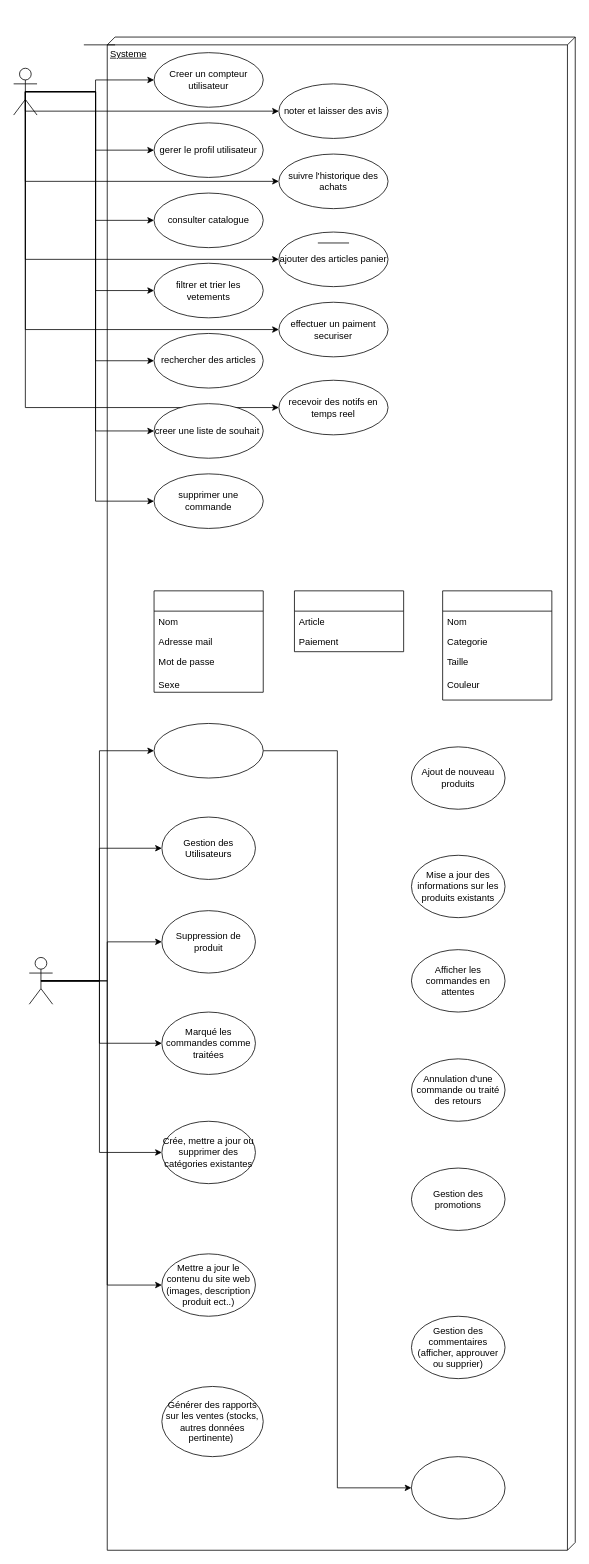
Image size: 589x1564. Some labels were removed from this diagram. The shapes that lost their labels are listed below. From the top down, each one's box as (x1, y1, x2, y2) in pixels, then its label:
(13, 67, 37, 115): Client
(153, 590, 263, 692): Utilisateur
(294, 590, 404, 652): Panier
(442, 590, 552, 700): Vetements
(153, 723, 263, 778): Authentification
(28, 957, 53, 1004): Admin
(411, 1456, 505, 1519): Deconnexion
